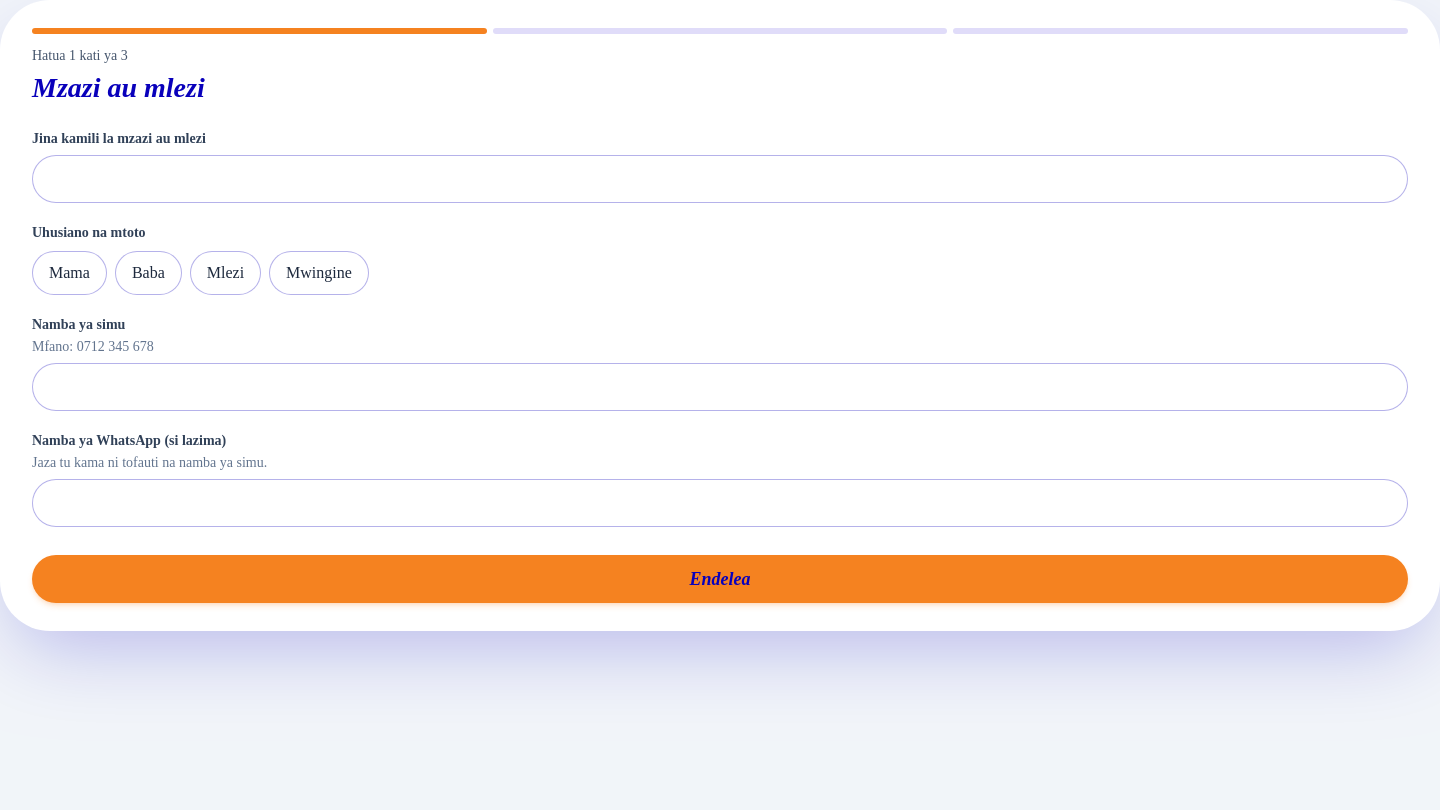
Test: the Admission form page › offers the 14 classes with no Pre-Form One, this year and next, and Kutwa or Bweni
Type "Amina Fixture" into the field labelled "Jina kamili la mzazi au mlezi". click: [720, 179]
box: [32,155,1408,203]
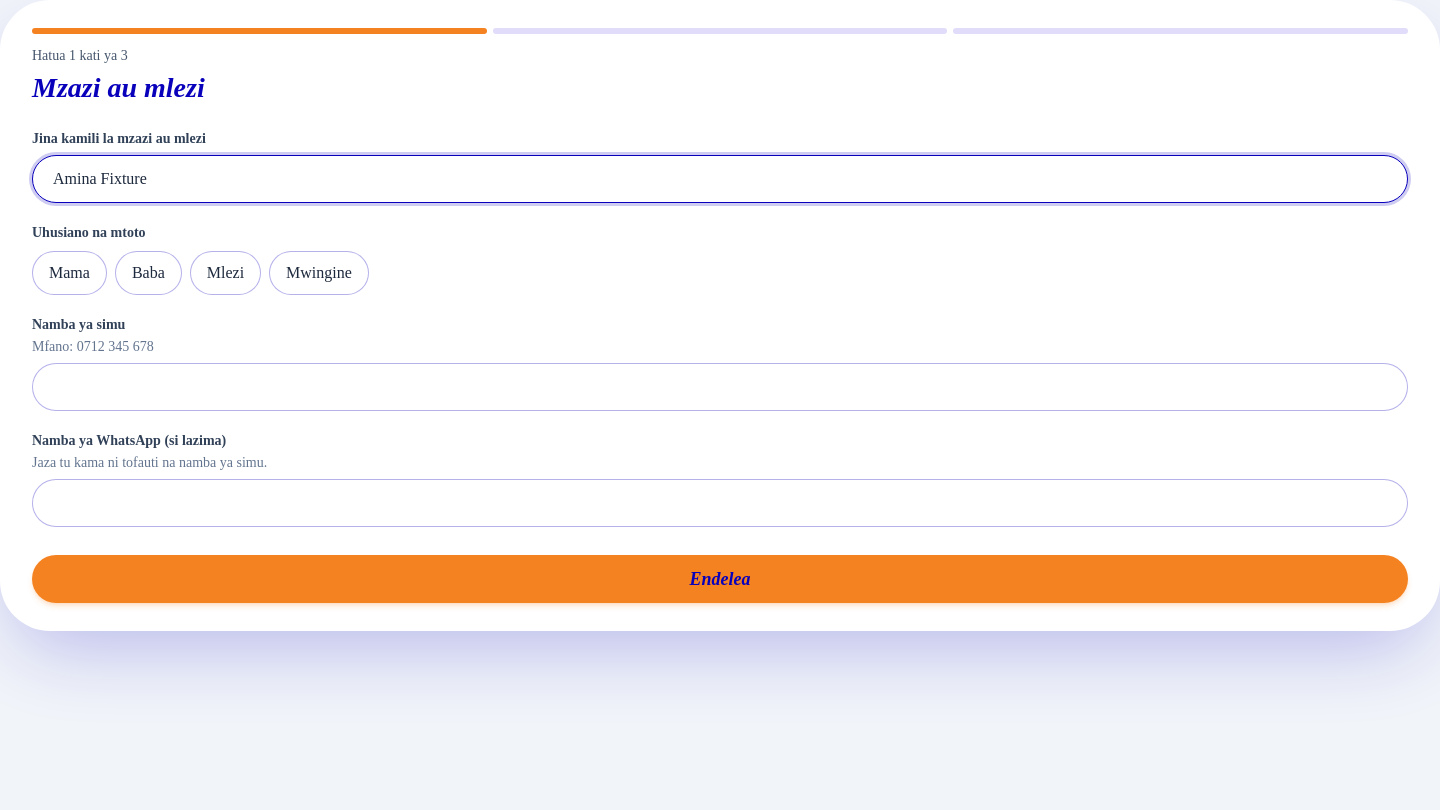
Click the button "Mama". click: [69, 273]
box: [32,251,107,295]
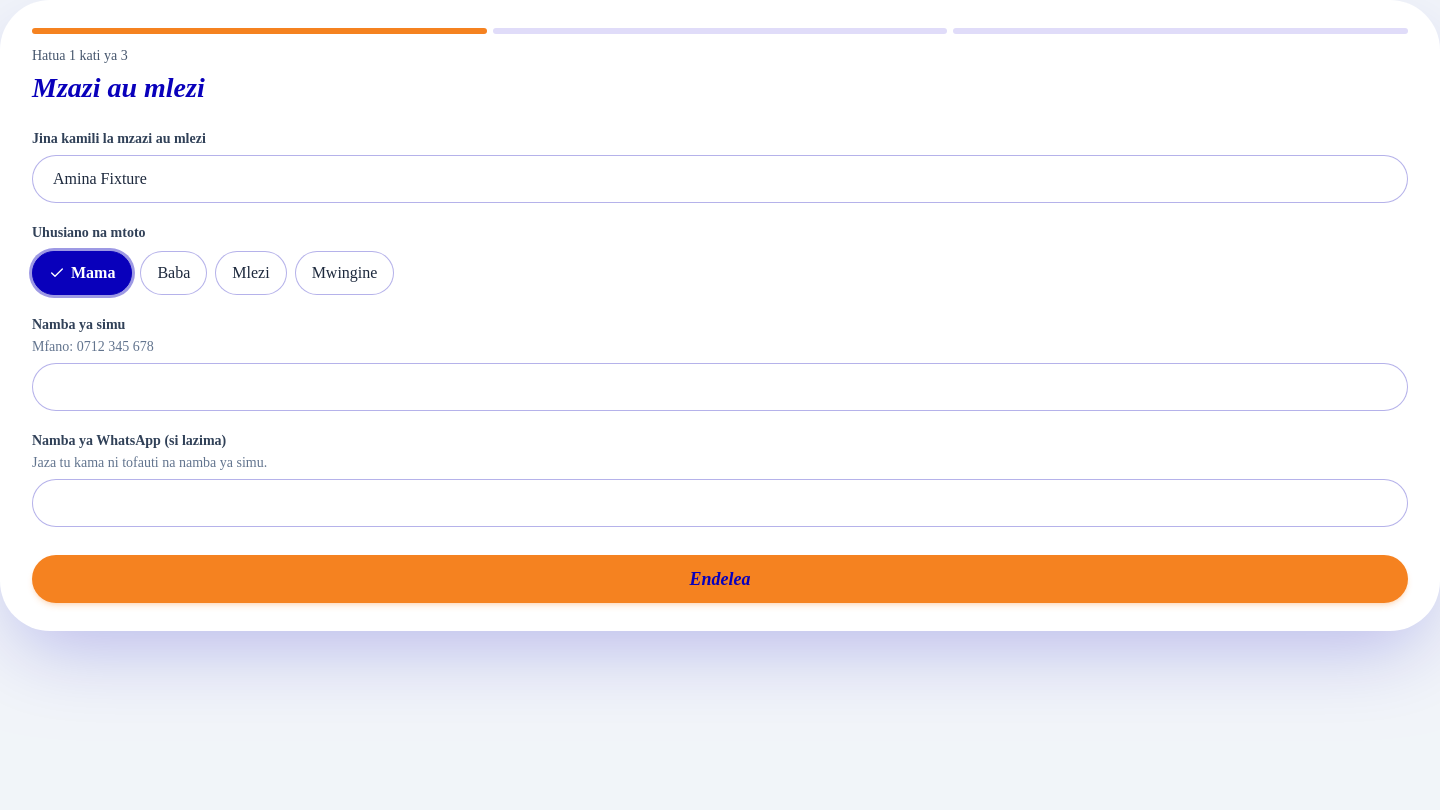
Type "0700000900" into the field labelled "Namba ya simu". click: [720, 387]
box: [32,363,1408,411]
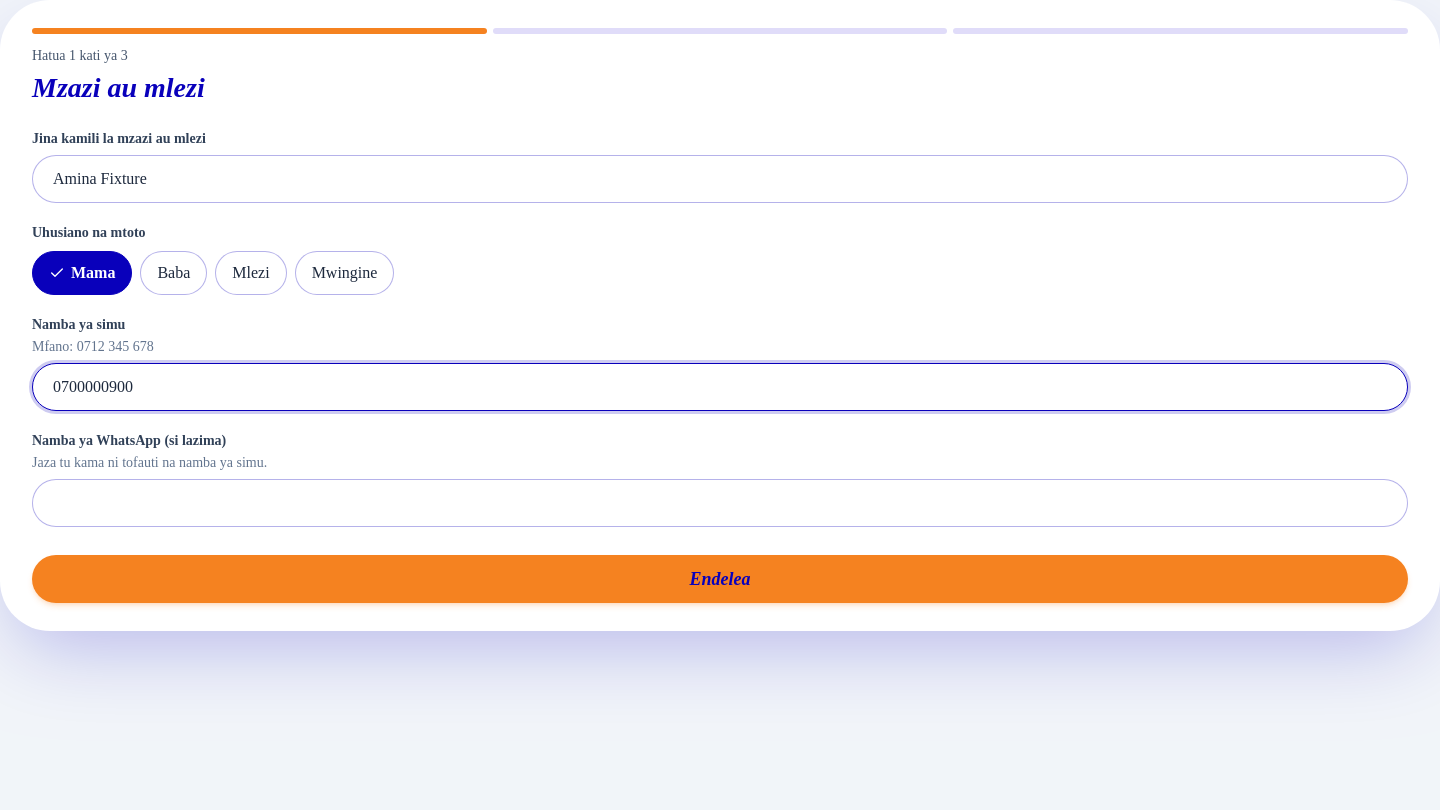
Click the button "Endelea". click: [720, 579]
box: [32,555,1408,603]
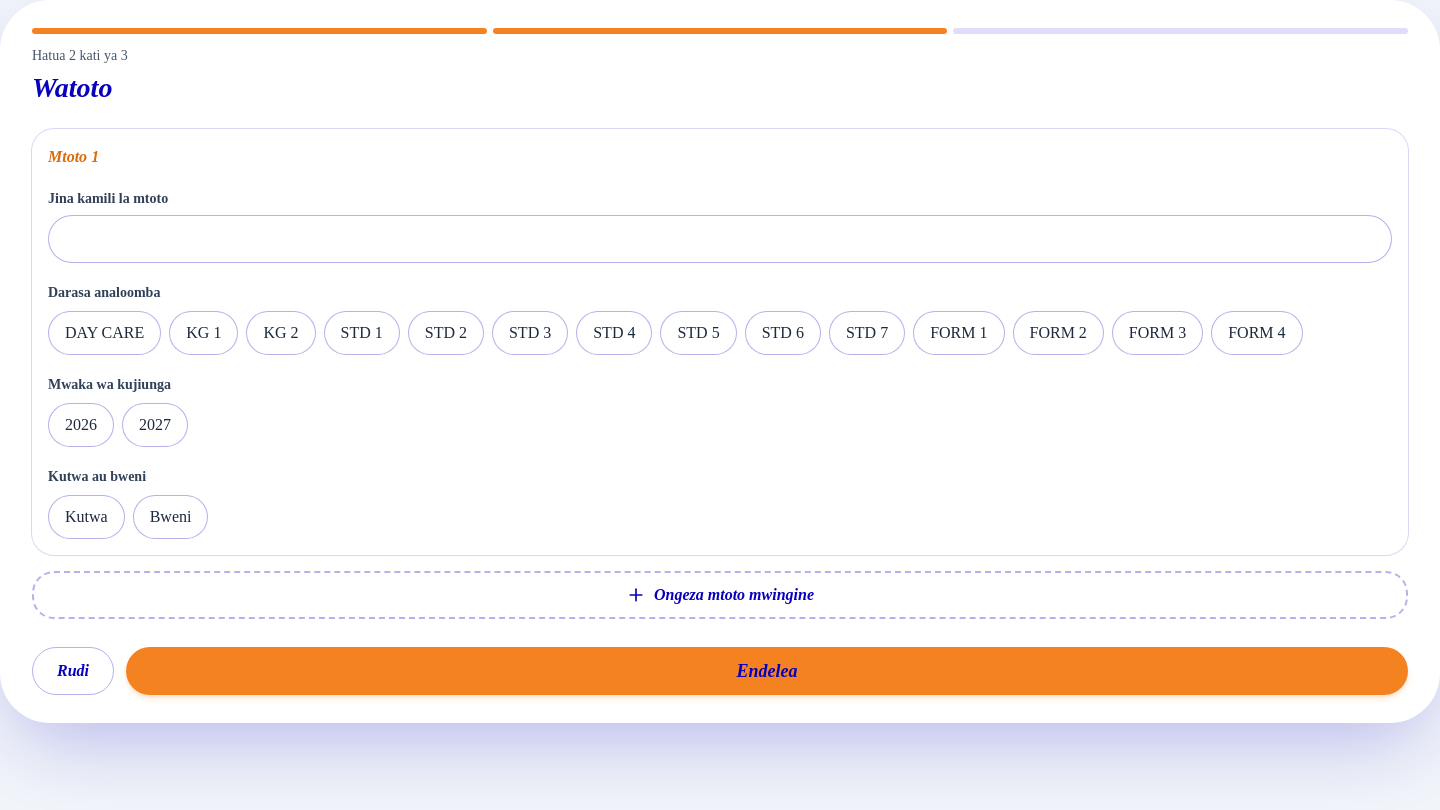
Expected: the buttons read "2026", "2027", in this order, [48,403,114,447]; [122,403,188,447]
Expected: the button "Kutwa" is shown, [48,495,125,539]
Expected: the button "Bweni" is shown, [133,495,208,539]
